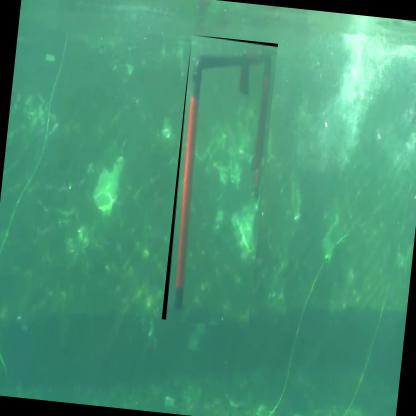gate: (162, 35, 280, 330)
